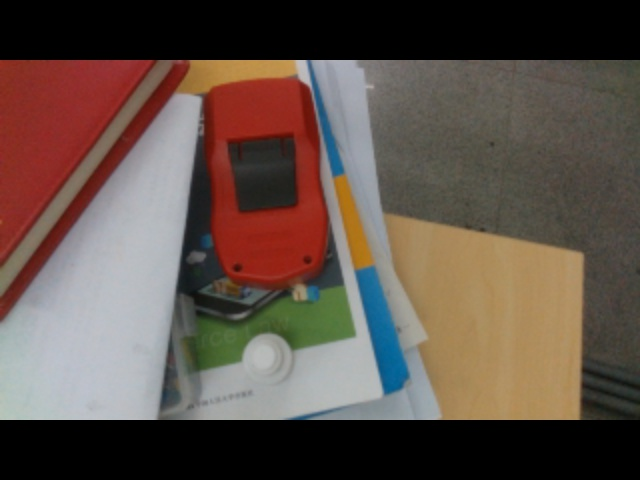Multimeter: (202, 74, 331, 285)
Screw holes: (228, 261, 243, 274), (303, 255, 315, 267)
